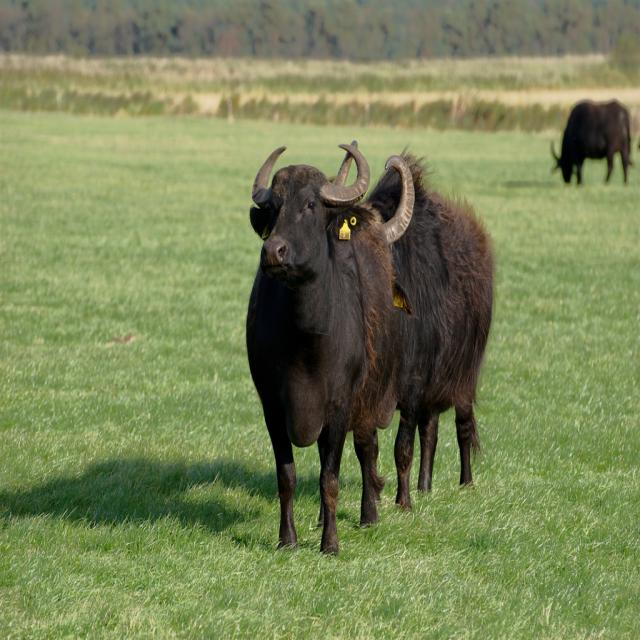Cattle: (246, 143, 398, 558), (364, 140, 498, 515), (549, 92, 633, 191)
